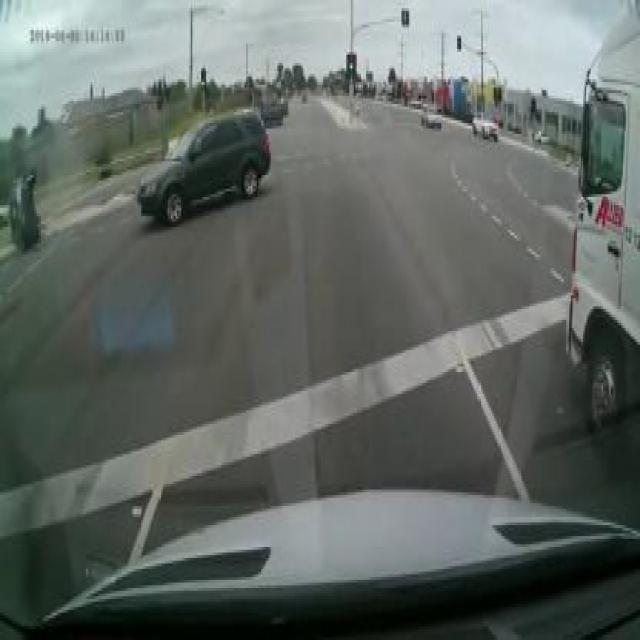accident: (5, 159, 44, 257)
